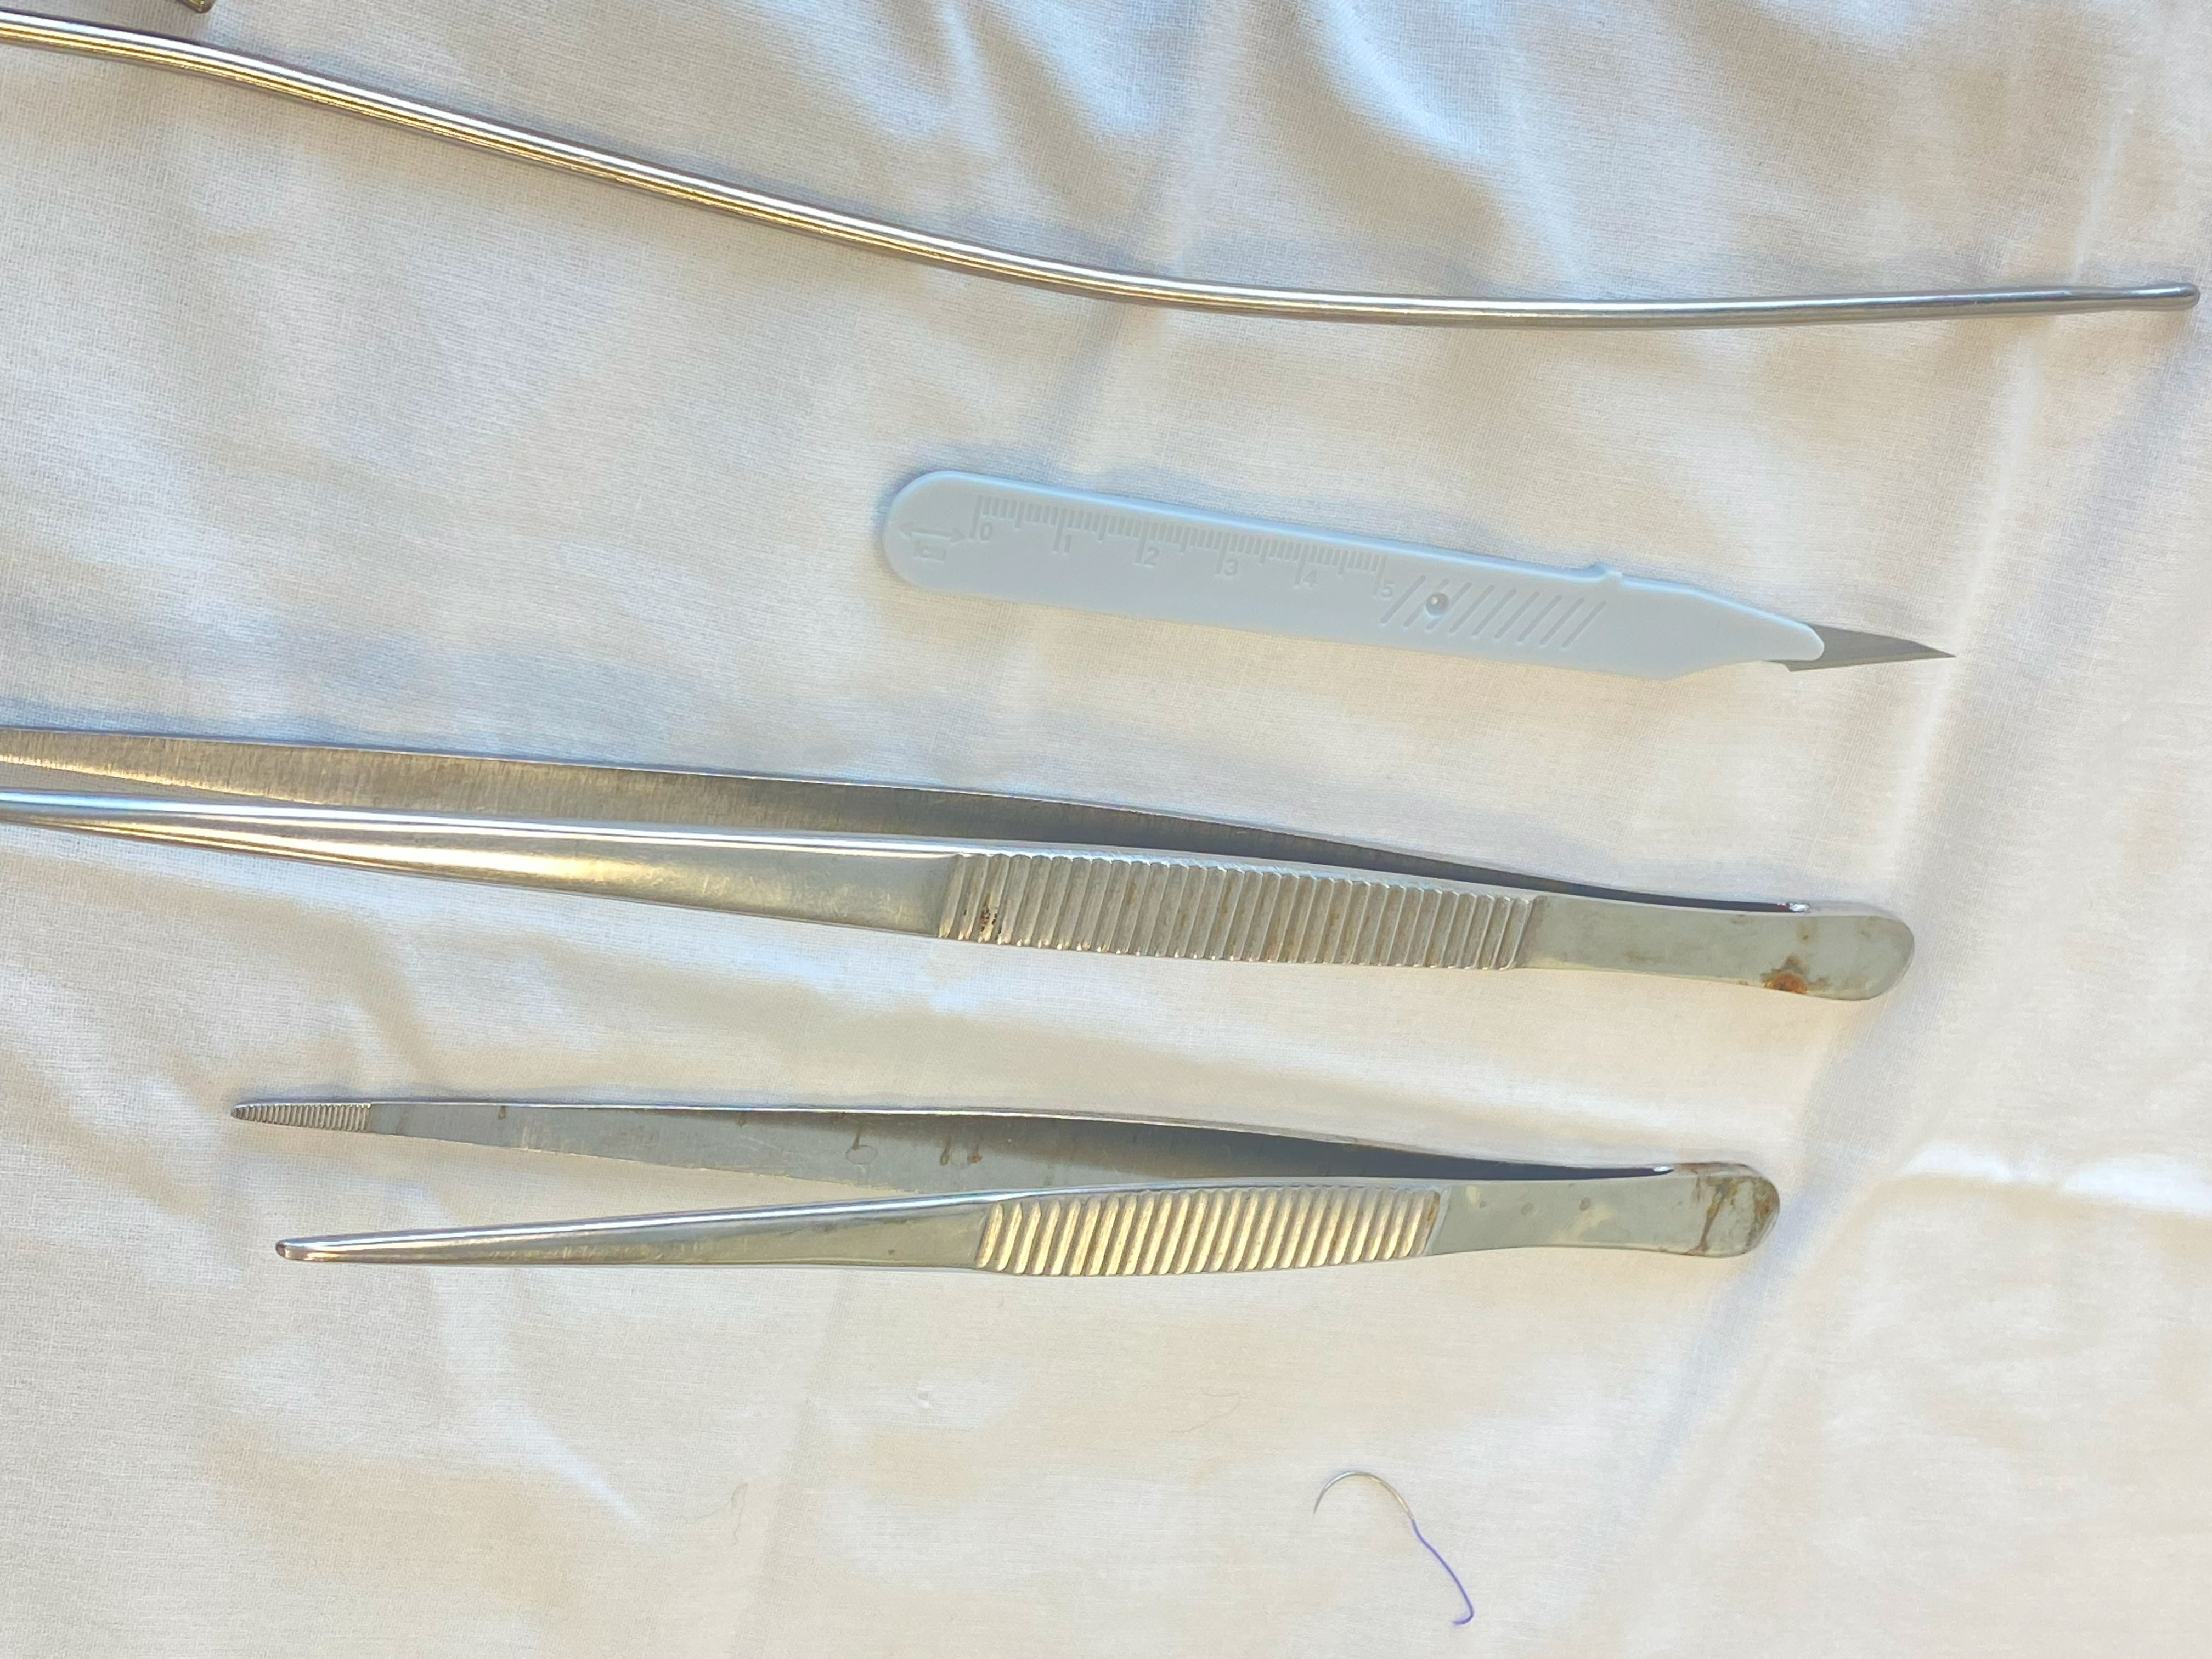tweezers: (233, 1098, 1778, 1277)
